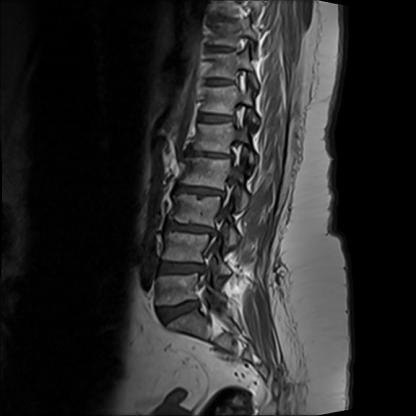Disc Bulgerotation: (171, 177, 230, 204), (155, 257, 212, 280), (183, 141, 235, 166), (166, 218, 222, 237)
